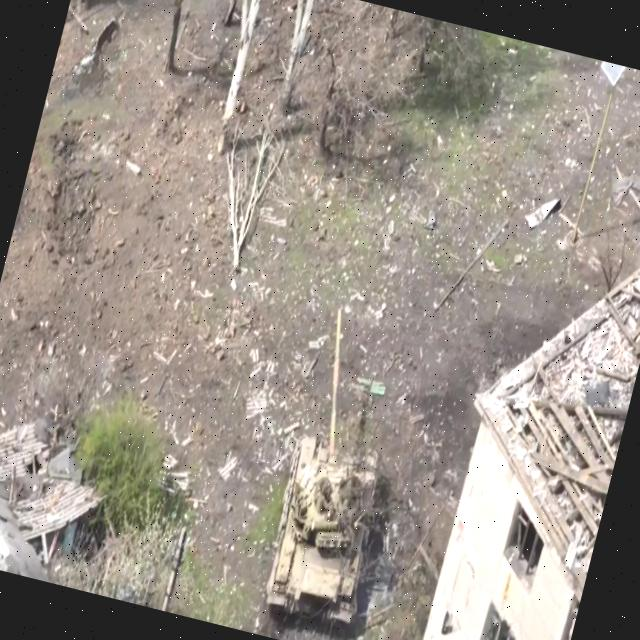MBT: (253, 304, 428, 636)
